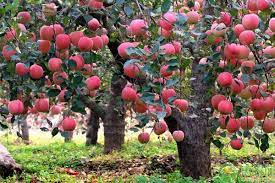Apple: (161, 13, 178, 29), (210, 23, 229, 36), (117, 42, 133, 57), (225, 44, 241, 58), (62, 117, 77, 131), (56, 33, 70, 48), (131, 18, 145, 33), (240, 31, 254, 46), (70, 55, 84, 69), (87, 76, 101, 90), (8, 100, 23, 113), (54, 72, 69, 85), (79, 37, 92, 52), (123, 64, 138, 77), (229, 137, 244, 150), (219, 71, 231, 87), (219, 102, 233, 115), (36, 40, 51, 52), (34, 98, 49, 110), (92, 36, 104, 51), (155, 119, 167, 134), (175, 99, 190, 111), (30, 65, 43, 78), (122, 87, 135, 100), (243, 14, 256, 27), (48, 58, 62, 70), (218, 12, 233, 23), (186, 10, 201, 21), (3, 46, 16, 58), (70, 30, 82, 43), (163, 88, 176, 100), (263, 119, 274, 133), (241, 118, 255, 129), (89, 0, 104, 10), (262, 97, 272, 112), (40, 26, 52, 38), (58, 89, 70, 101), (15, 62, 26, 75), (138, 132, 151, 143), (229, 118, 239, 132), (212, 94, 222, 108), (251, 99, 262, 111), (254, 111, 266, 122), (233, 79, 244, 91), (88, 18, 99, 29), (258, 0, 269, 11), (248, 0, 259, 11), (163, 44, 175, 54), (234, 23, 244, 35), (162, 66, 173, 76), (51, 105, 63, 114), (265, 45, 274, 57), (173, 131, 183, 141), (18, 12, 29, 21), (5, 28, 15, 37), (269, 17, 275, 31), (16, 24, 24, 33)
